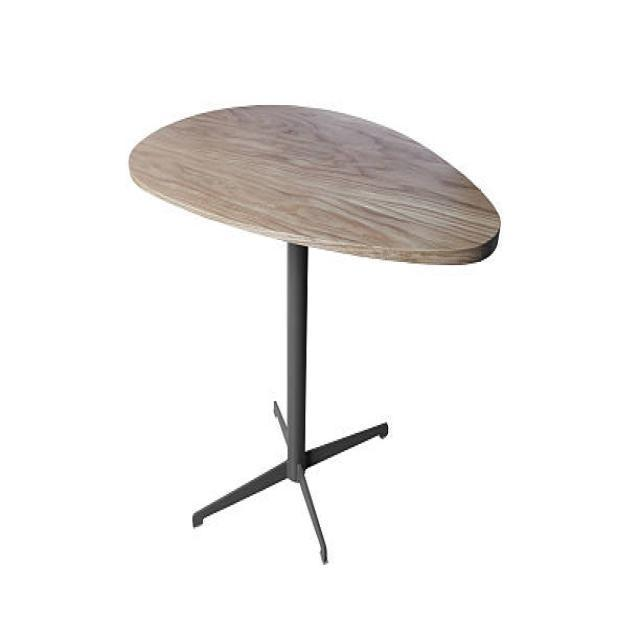table: (127, 102, 501, 565)
